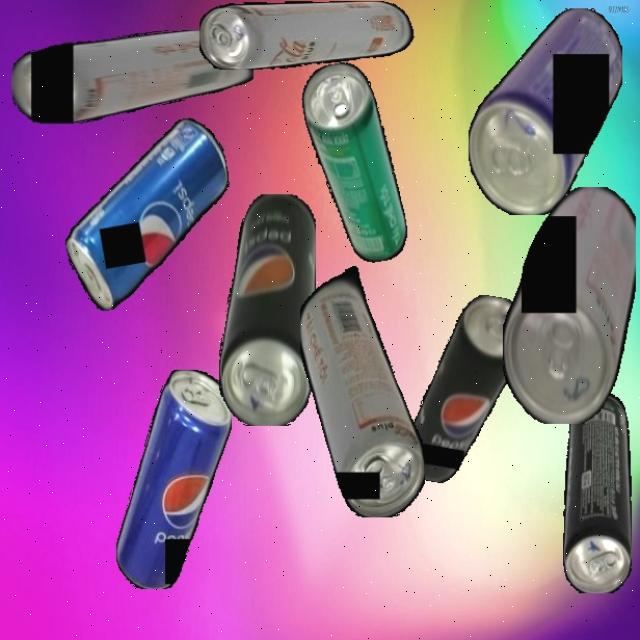debris: (49, 113, 247, 315), (468, 7, 622, 215), (502, 186, 636, 424), (299, 265, 425, 517), (401, 287, 531, 492), (115, 369, 232, 589), (297, 57, 412, 269), (12, 29, 254, 124), (218, 193, 316, 426), (200, 0, 416, 70), (562, 393, 632, 593)
